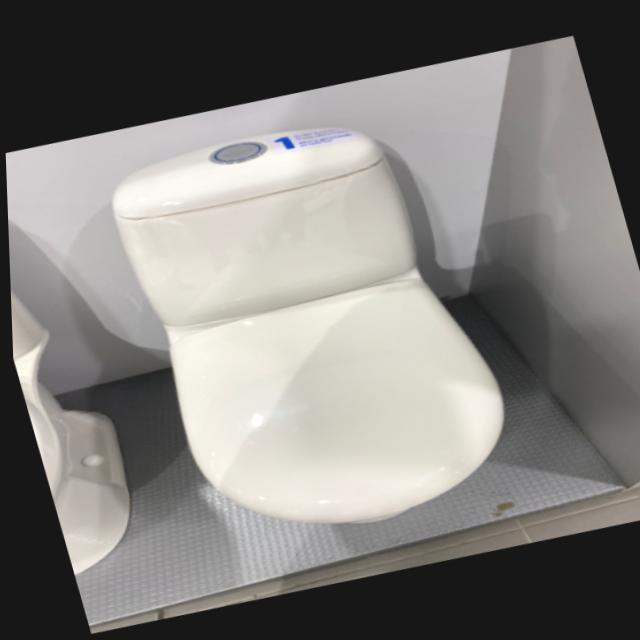toilet: (93, 85, 528, 566), (7, 248, 149, 577)
